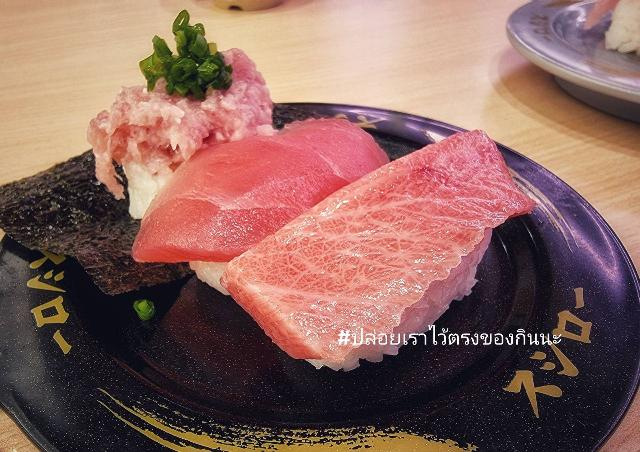janback: (23, 116, 612, 452)
janwhite: (507, 8, 640, 120)
